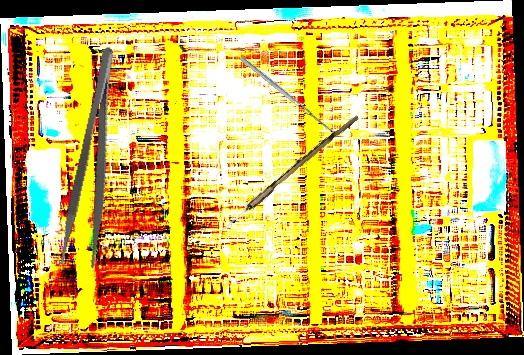Dressing Forceps: (55, 44, 138, 273)
Spatula Surgical: (239, 52, 342, 138)
Surgical Spoon: (206, 111, 360, 246)
